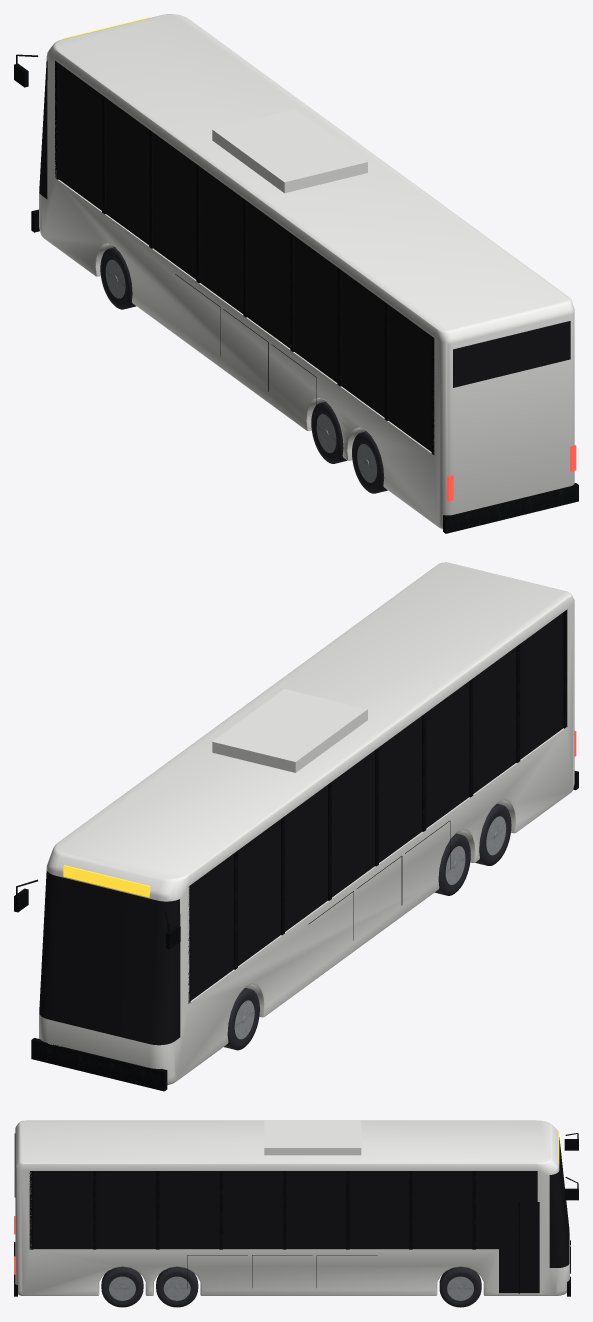
The model's file is bus_tour_white.gltf.
3 views of the same model, one above another, from view 1: azimuth 30°, elevation 25°; view 2: azimuth 150°, elevation 25°; view 3: azimuth 270°, elevation 25° (orthographic). The views are drawn at different scales.
Parts seen in each view (by area): view 1: bus_tour_white; view 2: bus_tour_white; view 3: bus_tour_white.
Boxes of the visible parts, x1,y1,x2,y2 form: bus_tour_white: [14, 14, 578, 533]; bus_tour_white: [14, 562, 578, 1091]; bus_tour_white: [14, 1120, 578, 1307].
Bounding box in the file's own units: 2.99 × 4.15 × 13.96.
Materials: 10 (4 with a texture image).
